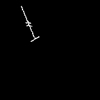treble_crochet: (22, 9, 37, 40)
